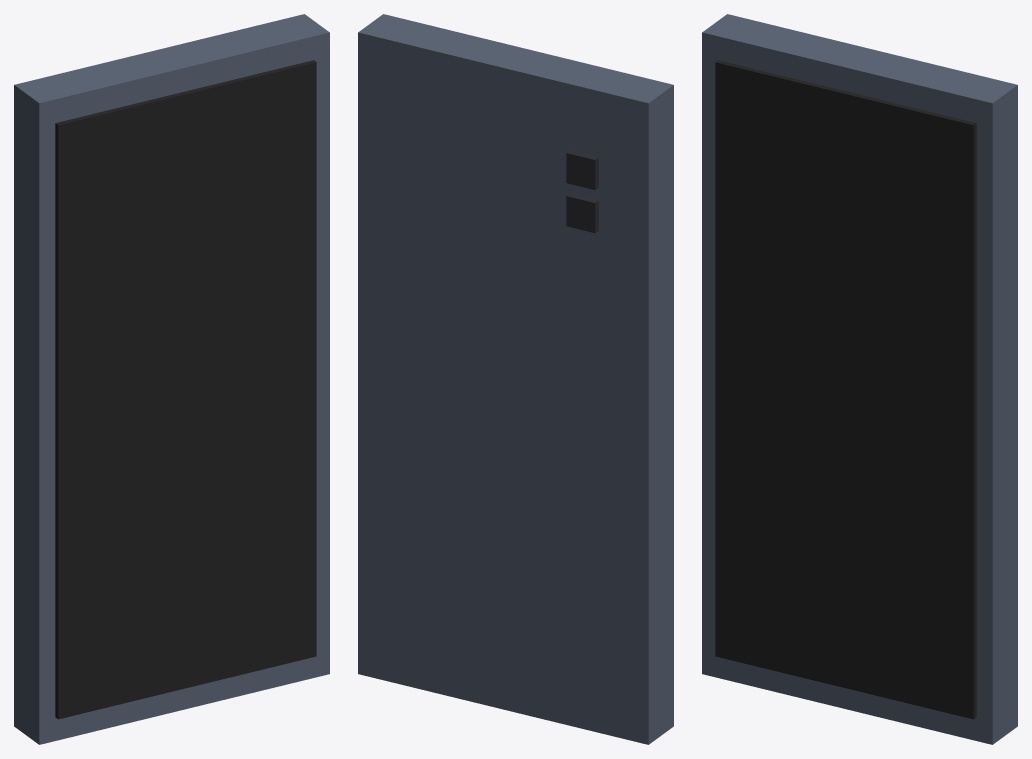
The model's file is iphone-duo.glb.
3 views of the same model, side by side, from view 1: azimuth 30°, elevation 25°; view 2: azimuth 150°, elevation 25°; view 3: azimuth 330°, elevation 25° (orthographic).
Parts seen in each view (by area): view 1: tela, corpo; view 2: corpo, lente-1, lente-0; view 3: tela, corpo.
Part boxes in pixels (box(x1,y1,x2,y2)): tela: box(55, 60, 316, 719); corpo: box(14, 14, 329, 744); corpo: box(358, 14, 673, 744); lente-1: box(566, 193, 598, 233); lente-0: box(566, 150, 598, 189); tela: box(715, 60, 976, 719); corpo: box(702, 14, 1017, 744).
Size of the model in its own units: 0.7043 by 1.49 by 0.1344.
